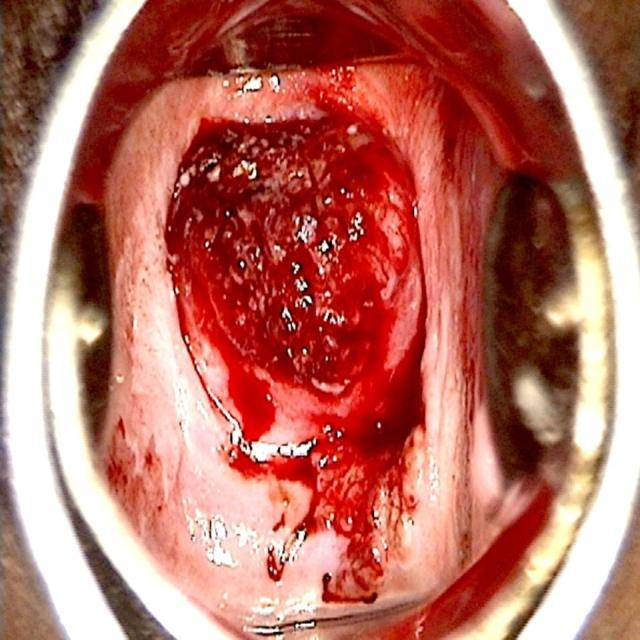cervical_lesion: (112, 66, 471, 626)
